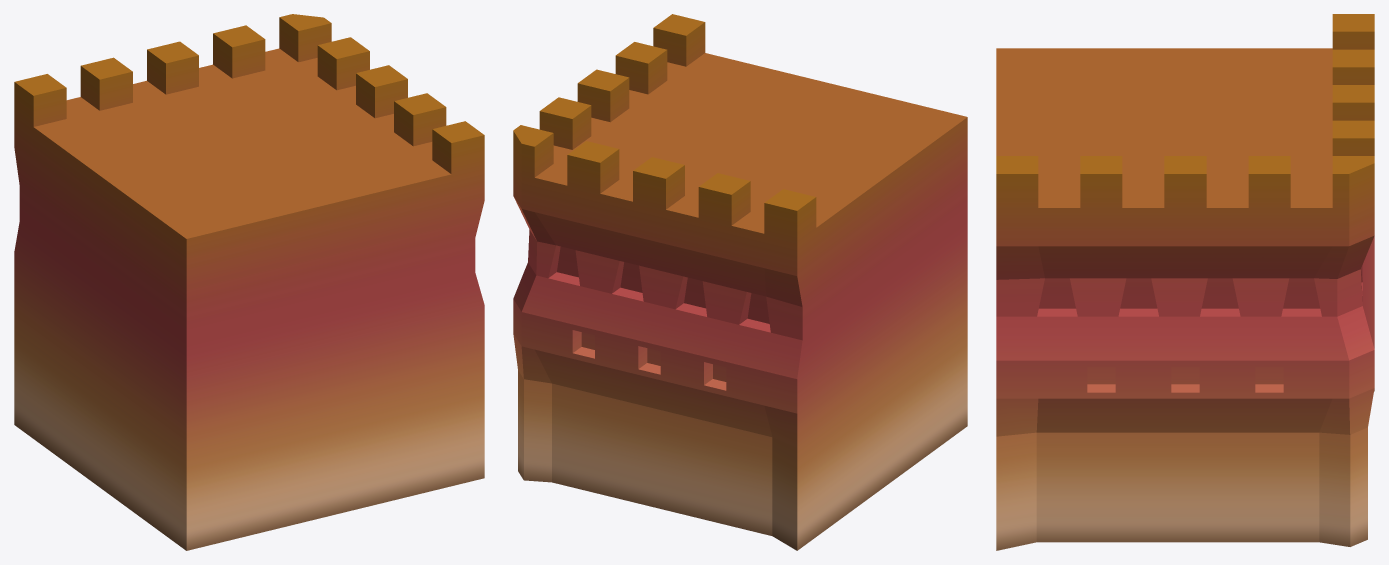
File: fort3.001.fbx
3 renders of one model, left to right at view 1: azimuth 30°, elevation 25°; view 2: azimuth 150°, elevation 25°; view 3: azimuth 270°, elevation 25°, orthographic. The views are drawn at different scales.
Parts seen in each view (by area): view 1: fort3.001; view 2: fort3.001; view 3: fort3.001.
Boxes of the visible parts, x1,y1,x2,y2 form: fort3.001: (14,14,484,550); fort3.001: (513,14,967,550); fort3.001: (996,14,1374,550).
Size of the model in its own units: 100 by 110 by 100.
